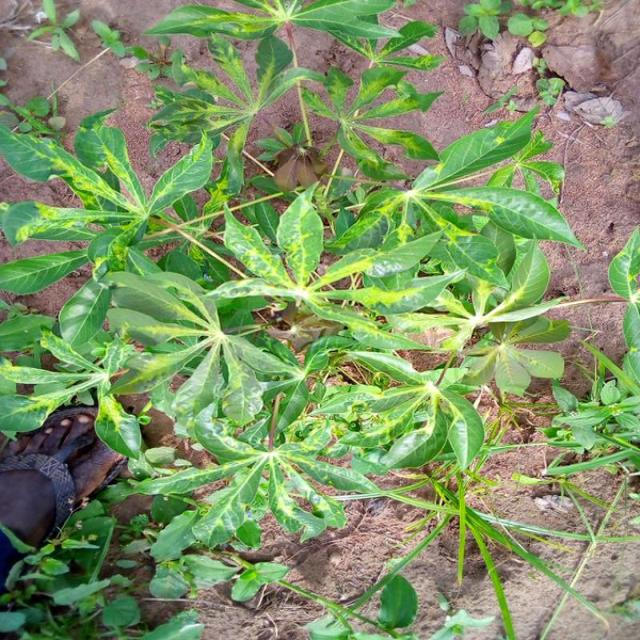cassava leaf: (1, 3, 589, 625)
